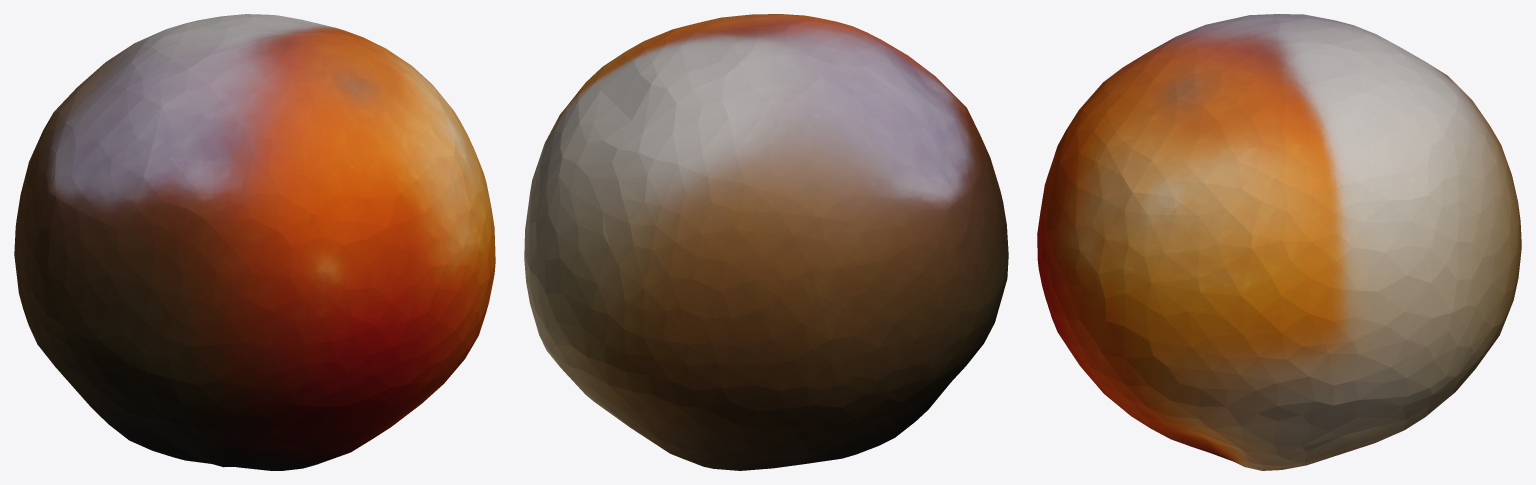
3 views of the same model, side by side, from view 1: azimuth 30°, elevation 25°; view 2: azimuth 150°, elevation 25°; view 3: azimuth 270°, elevation 25° (orthographic).
Parts seen in each view (by area): view 1: world; view 2: world; view 3: world.
Part boxes in pixels (box(x1,y1,x2,y2)): world: box(14, 14, 495, 470); world: box(524, 14, 1008, 470); world: box(1037, 14, 1521, 470).
Bounding box in the file's own units: 0.31 × 0.2927 × 0.3101.
Materials: 1 (1 with a texture image).
